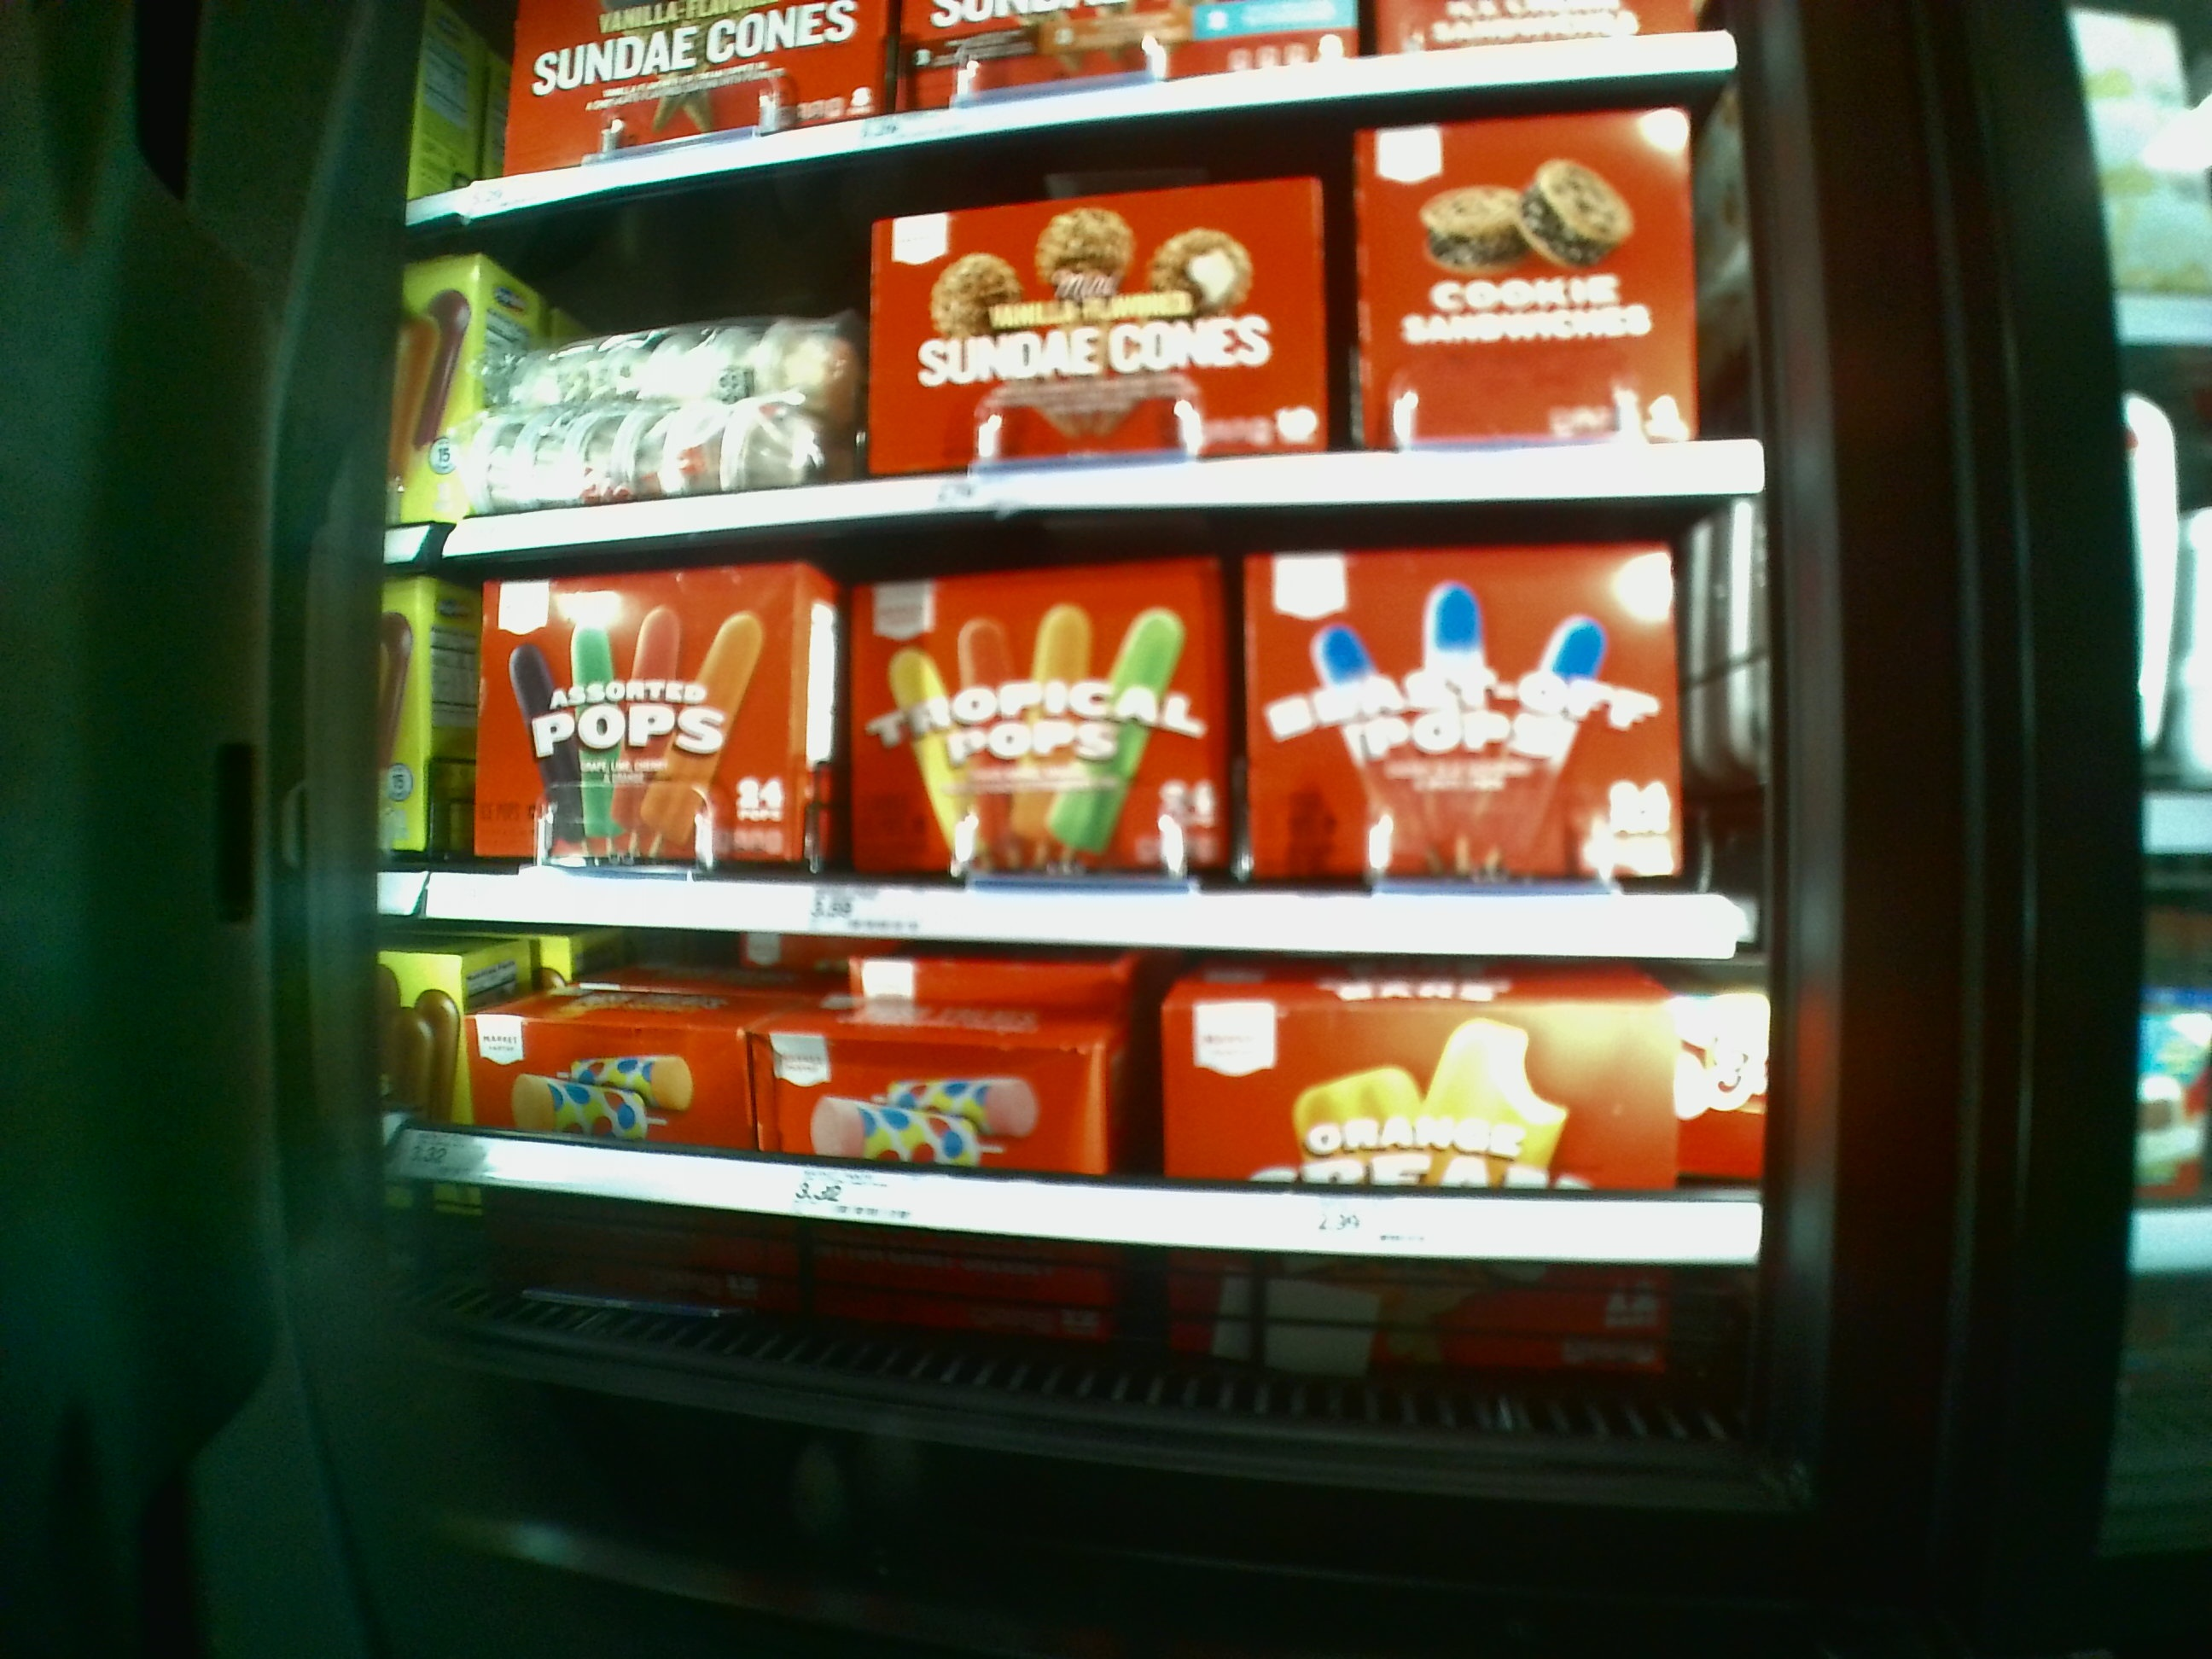shelf: (411, 939, 1750, 1420), (402, 120, 1752, 547), (427, 530, 1759, 953)
